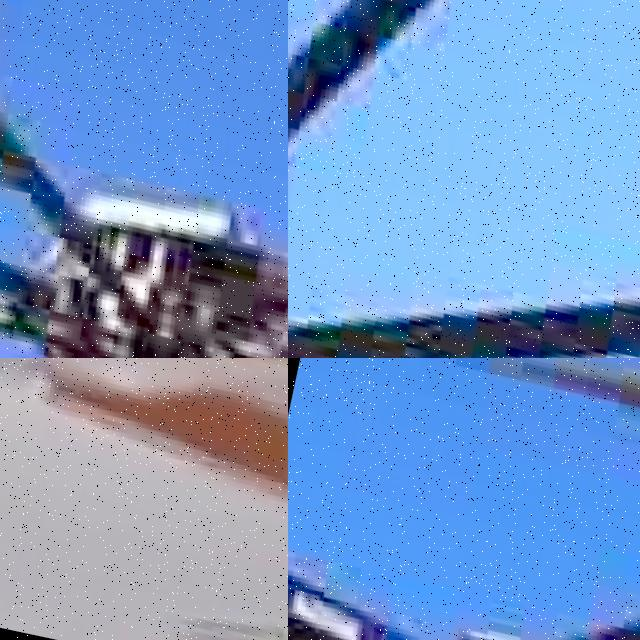drone: (288, 0, 640, 358), (0, 0, 288, 358), (288, 358, 640, 640), (0, 358, 288, 640)
